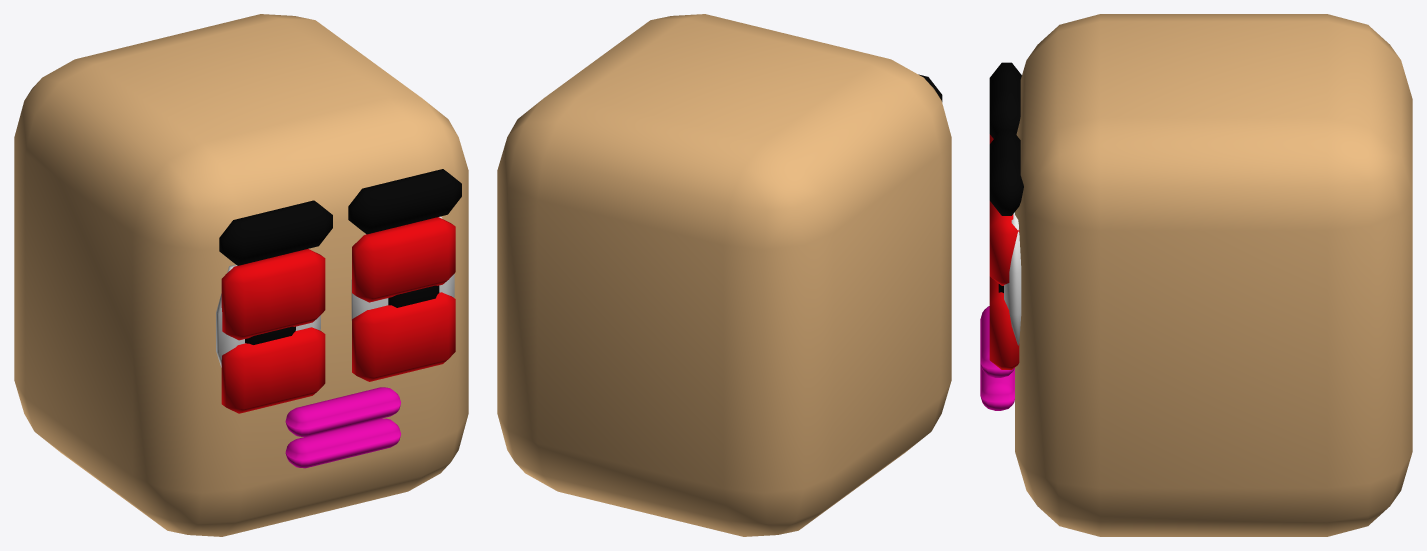
Rendered from robot_head4.glb.
3 renders of one model, left to right at view 1: azimuth 30°, elevation 25°; view 2: azimuth 150°, elevation 25°; view 3: azimuth 270°, elevation 25°, orthographic. The views are drawn at different scales.
Parts seen in each view (by area): view 1: robot_head; view 2: robot_head; view 3: robot_head.
Part boxes in pixels (box(x1,y1,x2,y2)): robot_head: box(14, 14, 468, 536); robot_head: box(497, 14, 951, 536); robot_head: box(980, 14, 1412, 536).
Size of the model in its own units: 0.7 by 0.8 by 0.761.
